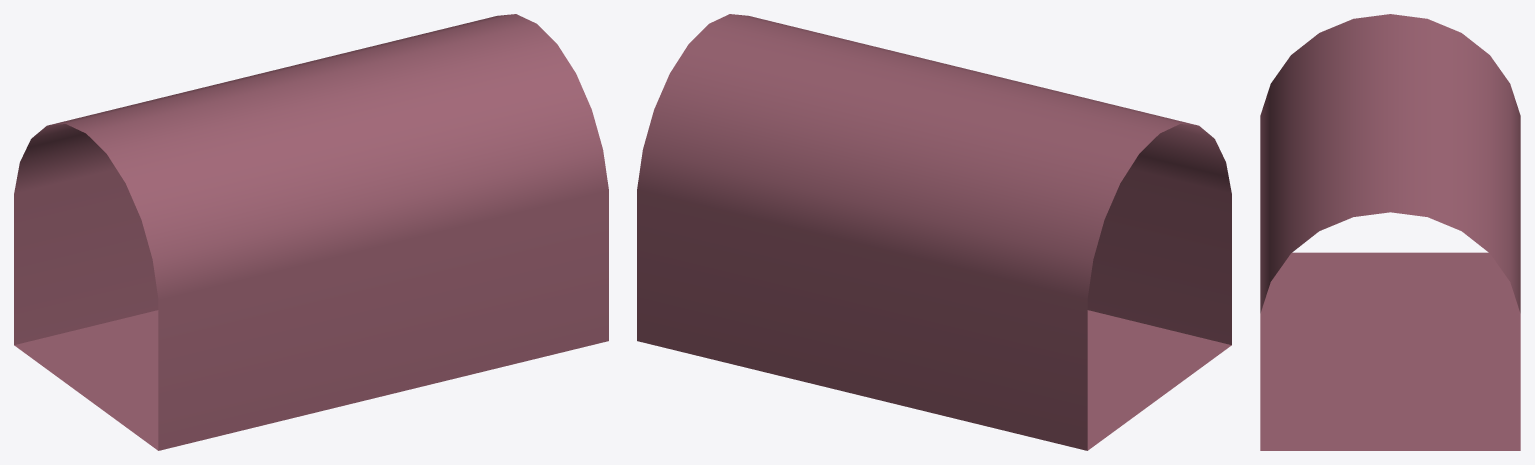
The model's file is mesh_TileTunel.fbx.
3 views of the same model, side by side, from view 1: azimuth 30°, elevation 25°; view 2: azimuth 150°, elevation 25°; view 3: azimuth 270°, elevation 25° (orthographic). The views are drawn at different scales.
Visible parts, largest first — view 1: mesh_TileTunel; view 2: mesh_TileTunel; view 3: mesh_TileTunel.
Boxes of the visible parts, x1,y1,x2,y2 form: mesh_TileTunel: (14,14,608,450); mesh_TileTunel: (637,14,1231,450); mesh_TileTunel: (1260,14,1520,450).
Size of the model in its own units: 2819 by 1582 by 1566.
